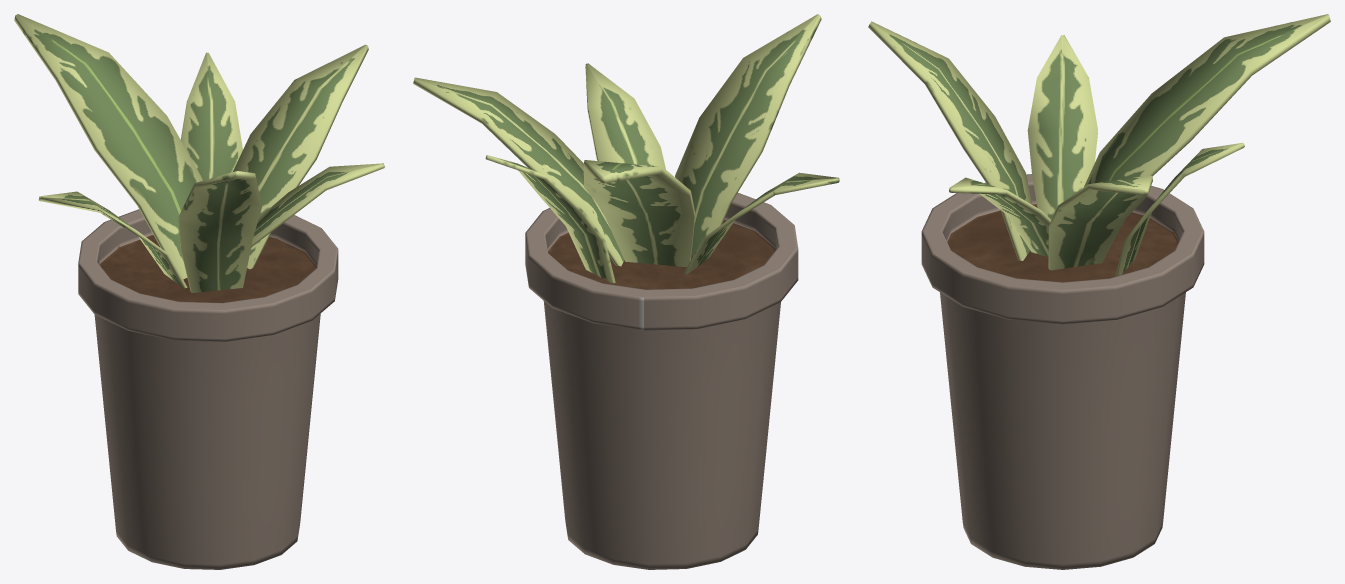
Rendered from Flowerpot.fbx.
3 views of the same model, side by side, from view 1: azimuth 30°, elevation 25°; view 2: azimuth 150°, elevation 25°; view 3: azimuth 270°, elevation 25° (orthographic). The views are drawn at different scales.
Parts seen in each view (by area): view 1: Cylinder.150; view 2: Cylinder.150; view 3: Cylinder.150.
Part boxes in pixels (x1,y1,x2,y2): Cylinder.150: [14, 14, 384, 569]; Cylinder.150: [413, 14, 839, 569]; Cylinder.150: [868, 14, 1330, 569].
Bounding box in the file's own units: 80.35 × 92.59 × 81.38.
1 material, 1 textured.
